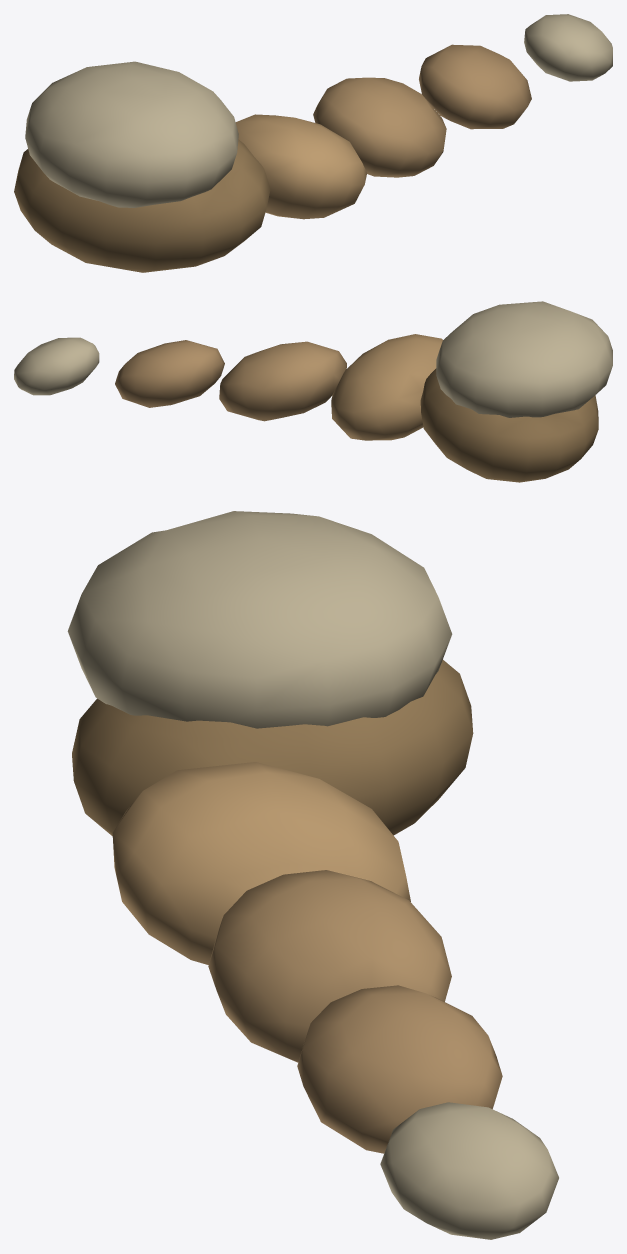
The model's file is weaver_cairn_c_lod1.glb.
3 renders of one model, top to bottom at view 1: azimuth 30°, elevation 25°; view 2: azimuth 150°, elevation 25°; view 3: azimuth 270°, elevation 25°, orthographic. The views are drawn at different scales.
Parts seen in each view (by area): view 1: Surface.001; view 2: Surface.001; view 3: Surface.001.
Boxes of the visible parts, x1,y1,x2,y2 form: Surface.001: (14,14,612,272); Surface.001: (14,301,612,482); Surface.001: (67,511,558,1239).
Bounding box in the file's own units: 2.09 × 0.5732 × 0.8448.
